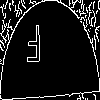F: (25, 24, 42, 71)
